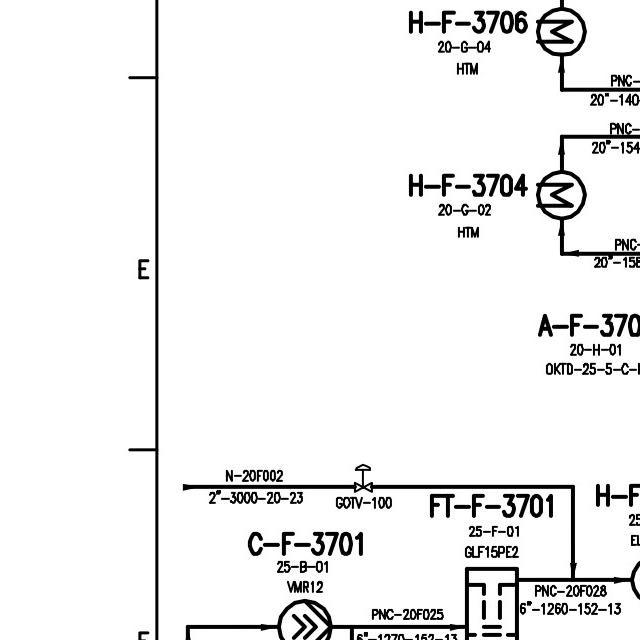PCV: (350, 459, 377, 495)
